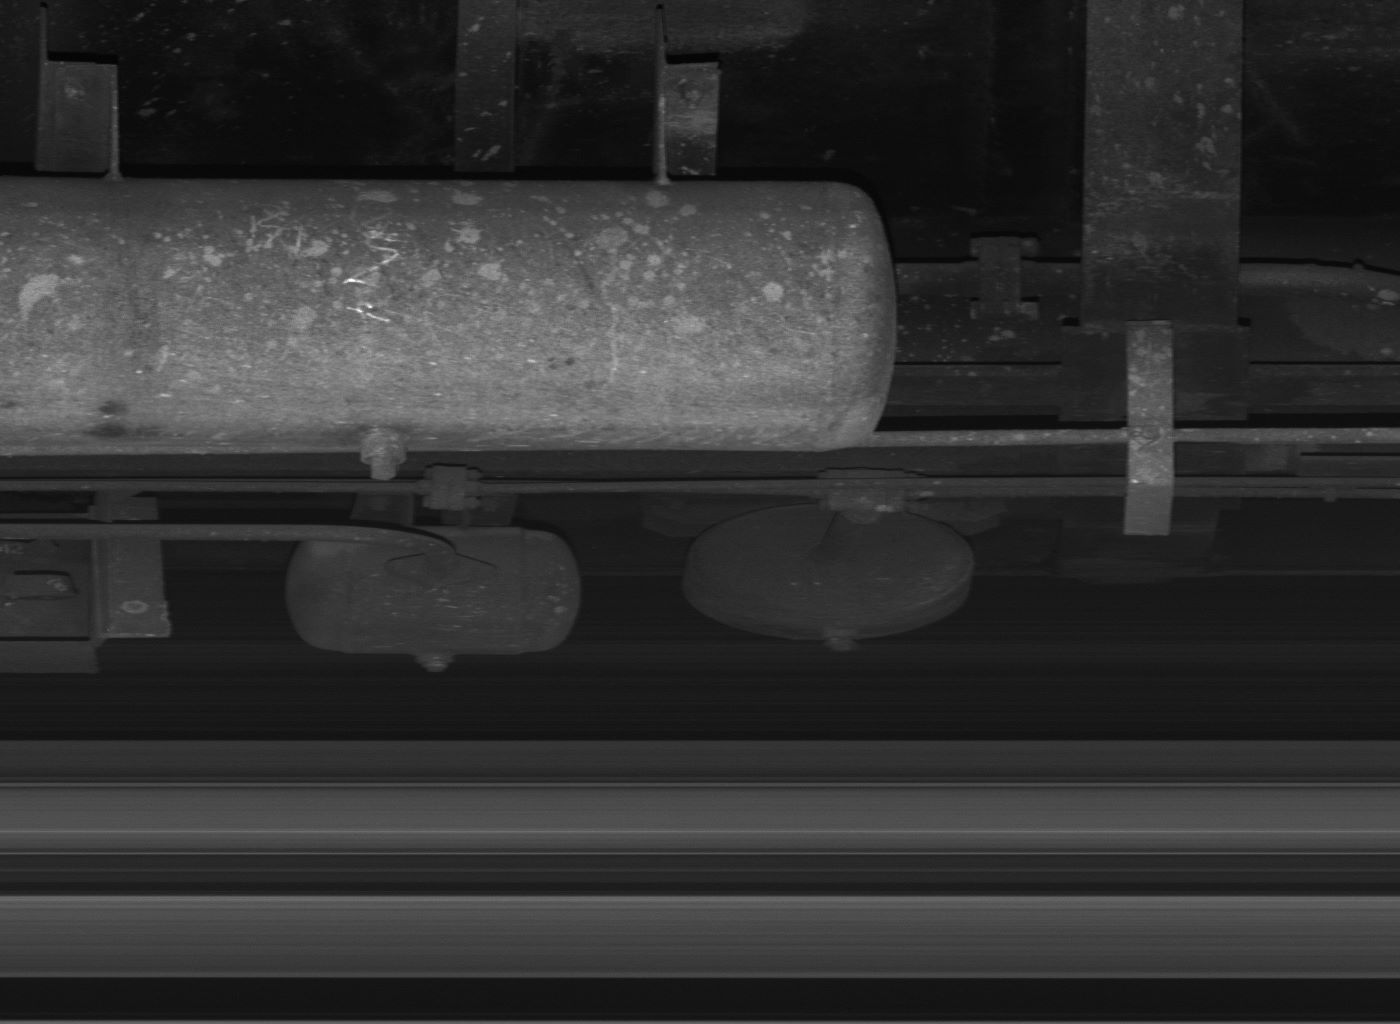normal: (1125, 323, 1177, 539)
